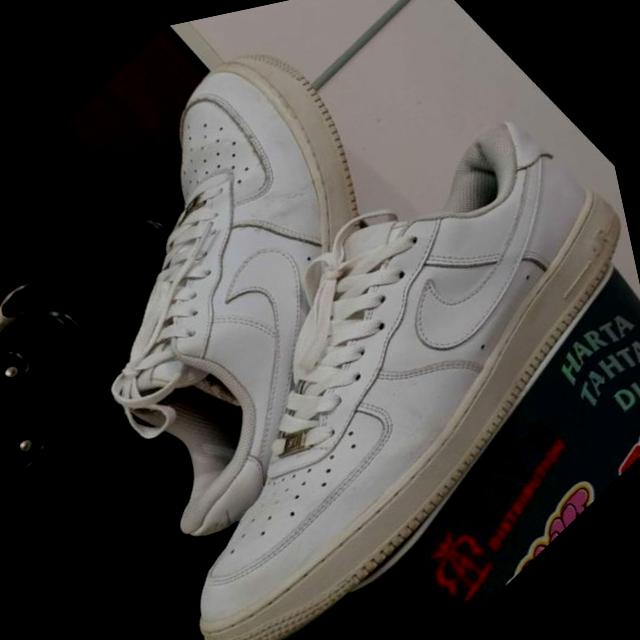nike_original_airforce: (5, 73, 640, 640), (0, 0, 553, 604)
